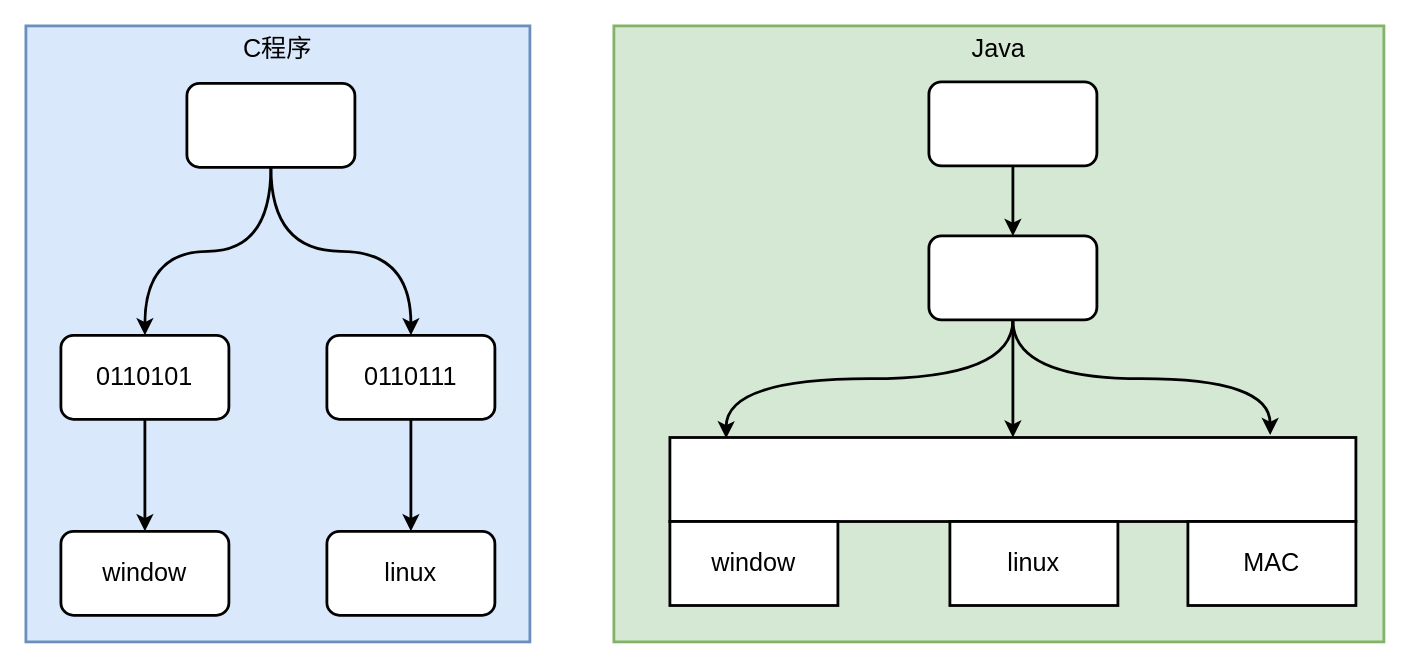
This 1408x666 diagram has some shape labels left out. The shapes that lost their labels are listed below. From the top down, each one's centre as x and y in pixels, then its label:
the point at 270,124: .h
the point at 1012,123: .java
the point at 1012,277: .class
the point at 1012,478: JVM
